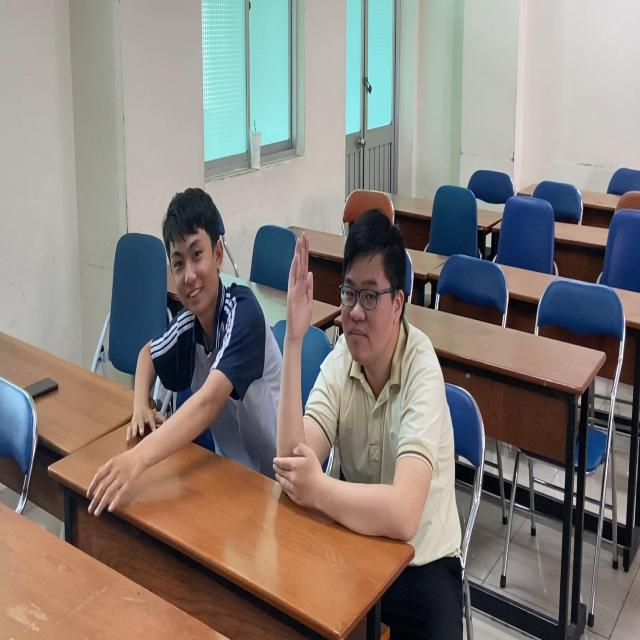raise_hand: (272, 199, 455, 564)
